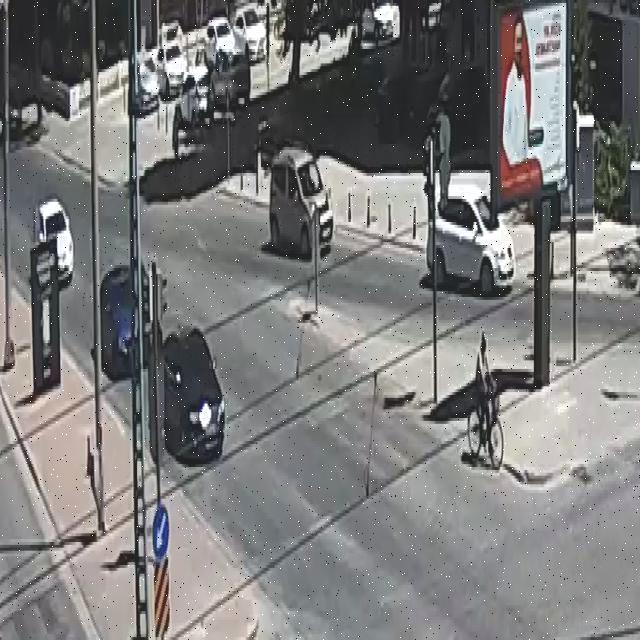Car: (157, 323, 231, 462), (428, 183, 520, 294), (267, 149, 335, 256), (99, 266, 134, 378), (35, 197, 74, 284), (207, 54, 250, 109), (177, 66, 210, 128), (233, 5, 268, 62), (200, 18, 236, 70), (133, 52, 158, 115), (163, 42, 188, 95)
Cycle: (464, 377, 507, 473)
